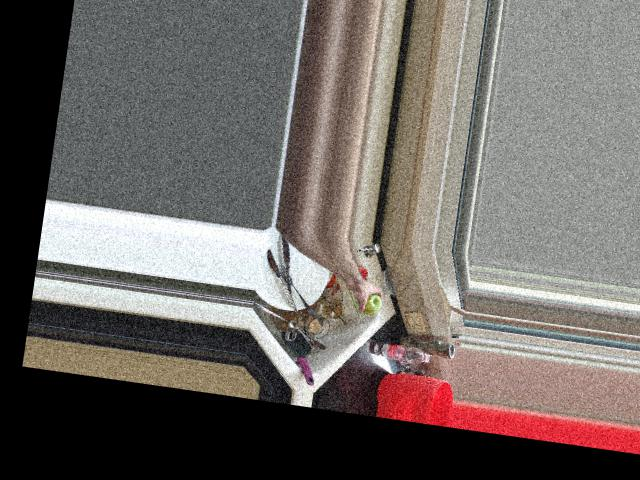apple: (357, 291, 385, 315)
